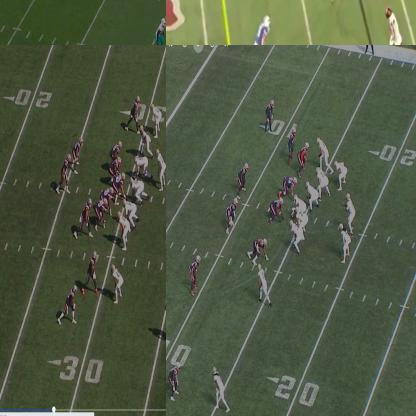CENTER: (293, 193, 308, 216), (116, 173, 127, 197)
DB: (253, 15, 271, 44), (112, 263, 124, 301), (190, 256, 201, 296), (170, 362, 182, 398), (151, 106, 162, 138), (287, 122, 297, 157), (265, 100, 274, 130)
LB: (116, 210, 128, 247), (226, 198, 238, 235), (155, 150, 165, 193), (298, 143, 310, 174), (238, 162, 249, 195), (154, 16, 165, 44)
QB: (58, 152, 70, 192), (345, 193, 354, 232)
SKILL: (385, 5, 413, 44), (63, 283, 79, 322), (212, 368, 226, 409), (129, 95, 143, 130), (81, 198, 92, 240), (88, 250, 99, 292), (260, 264, 270, 304), (338, 224, 349, 260), (336, 159, 347, 190), (138, 126, 150, 154), (72, 140, 82, 172), (317, 138, 327, 168)
